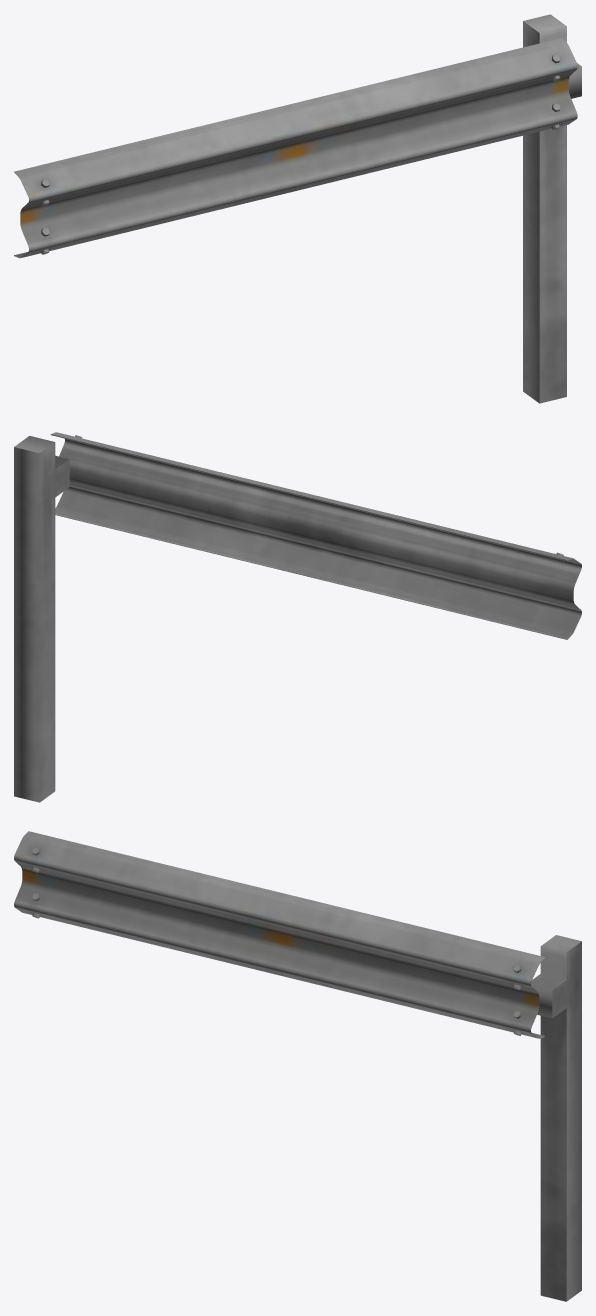
File: railing.glb
The picture shows the model from 3 angles, top to bottom: view 1: azimuth 30°, elevation 25°; view 2: azimuth 150°, elevation 25°; view 3: azimuth 330°, elevation 25°; orthographic projection. The views are drawn at different scales.
Parts seen in each view (by area): view 1: Railing2m_Railing_0; view 2: Railing2m_Railing_0; view 3: Railing2m_Railing_0.
Part boxes in pixels (x1,y1,x2,y2): Railing2m_Railing_0: (14,14,581,403); Railing2m_Railing_0: (14,432,581,802); Railing2m_Railing_0: (14,831,581,1301).
Size of the model in its own units: 2 by 1.26 by 0.2516.
1 material, 1 textured.
